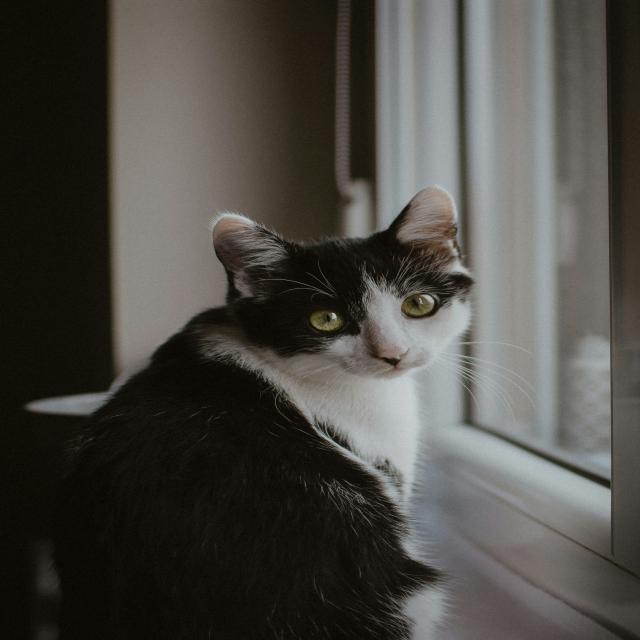cat: (185, 175, 547, 429)
